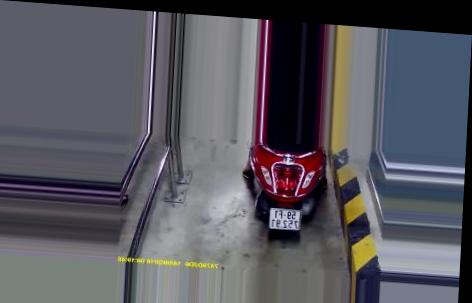License_Plate: (266, 204, 306, 235)
